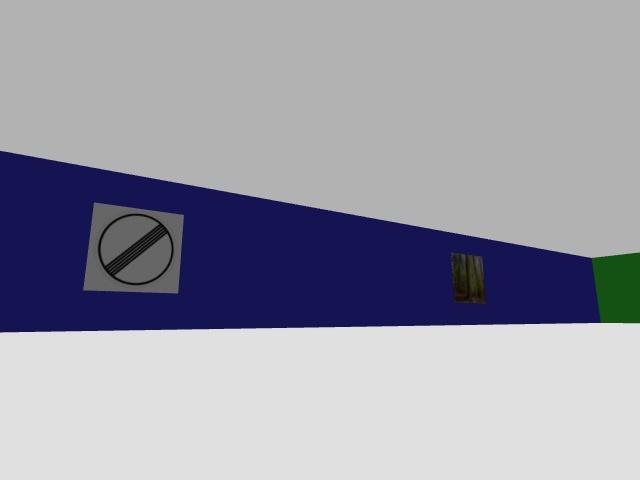fastsign: (84, 203, 182, 293)
